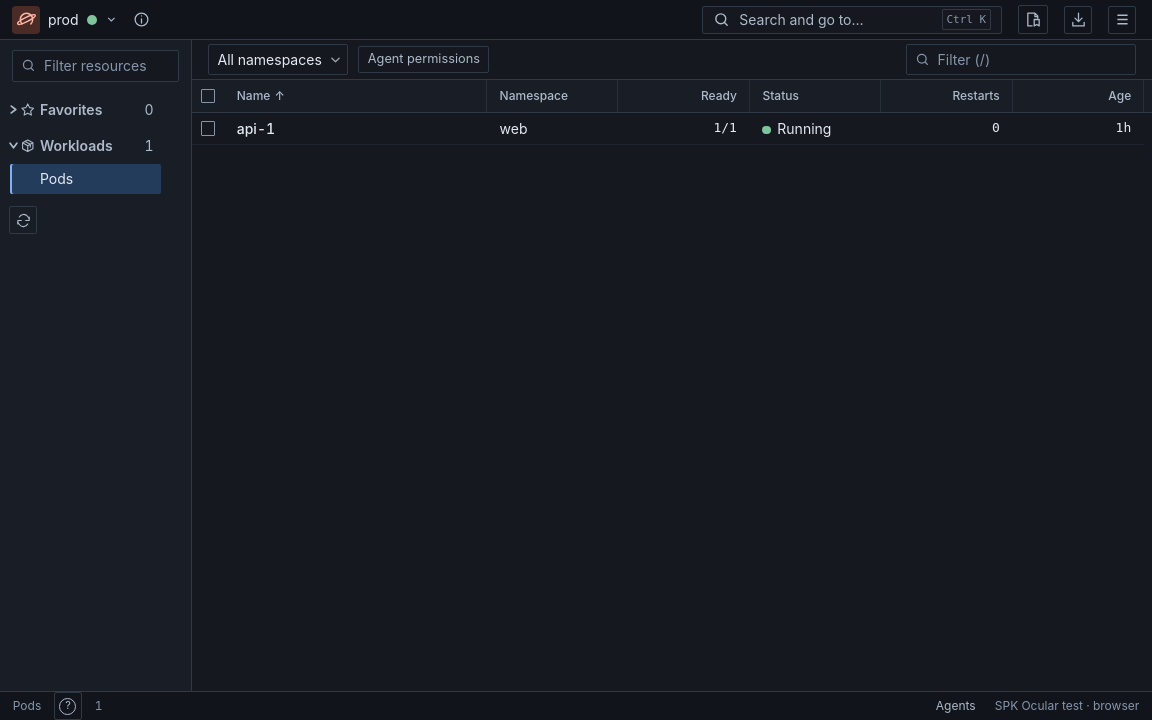
Test: Workspace details and state › opens a row in the drawer, follows a relation and goes back
Click the text "api-1". click: (256, 128)
box: [237,120,275,137]
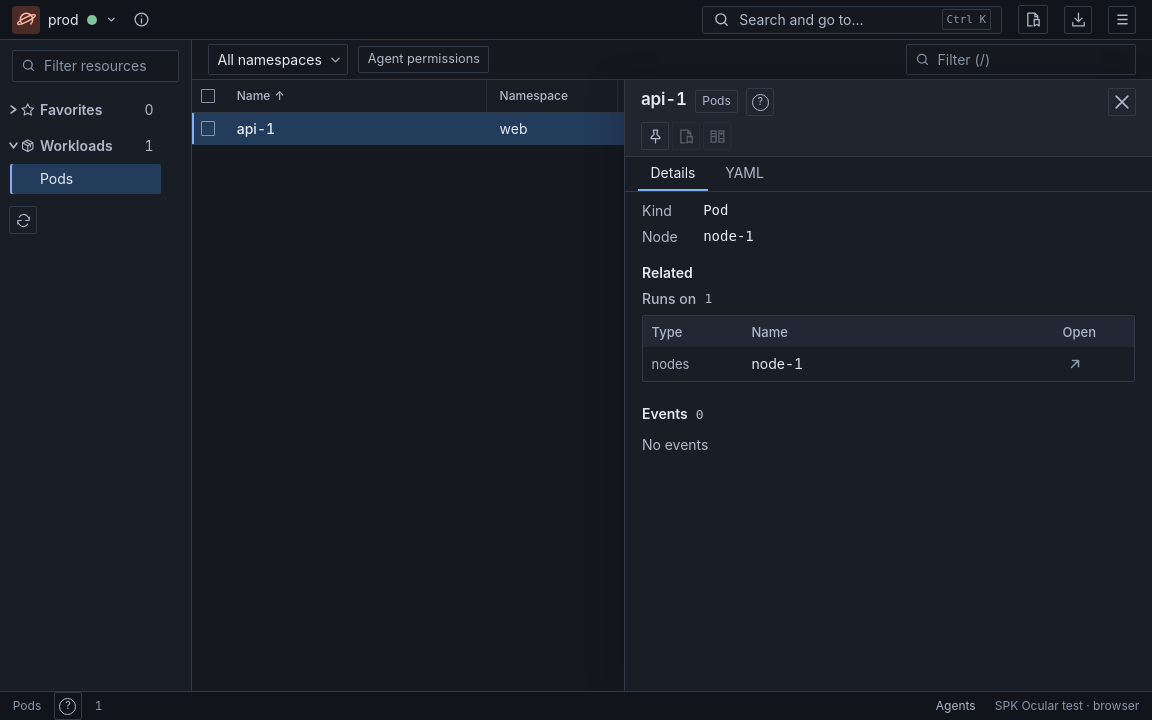
Expected: the text "node-1" below "Kind" is shown, [703,228,754,244]
Click the button named "nodes/node-1". click: (1075, 364)
box: [1062,352,1088,377]
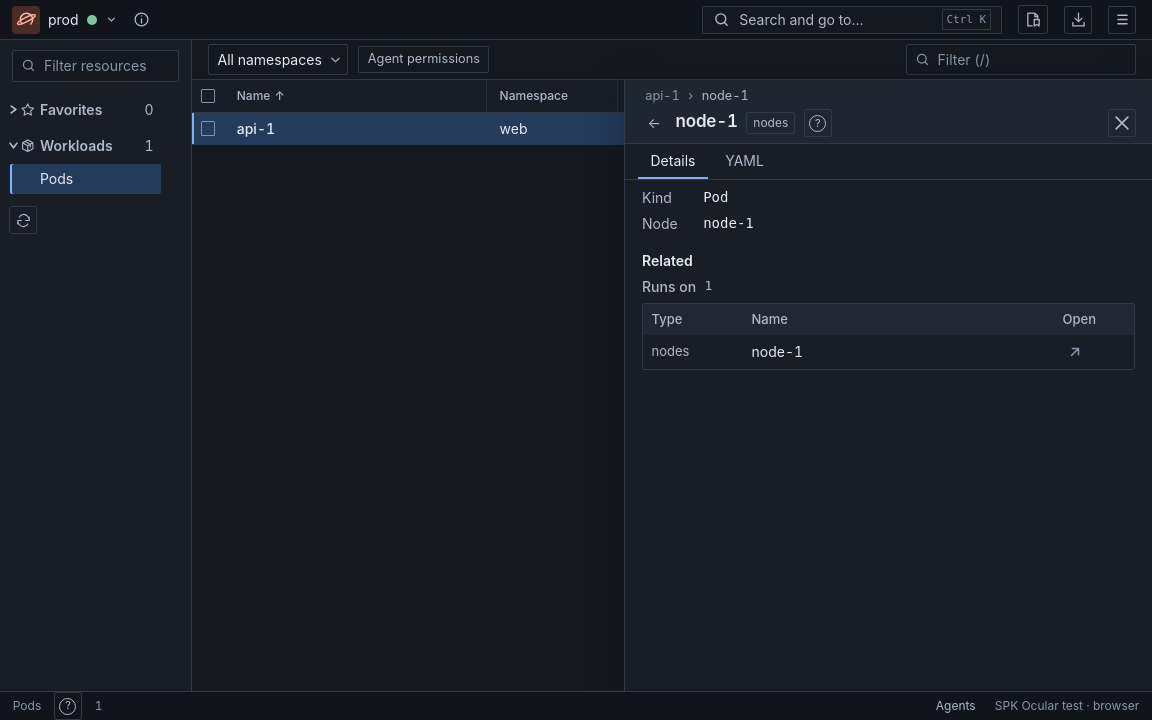
Expected: the dialog named "nodes node-1" is shown, [624,80,1151,691]
Click the button named "Back". click: (654, 123)
box: [641,113,667,133]
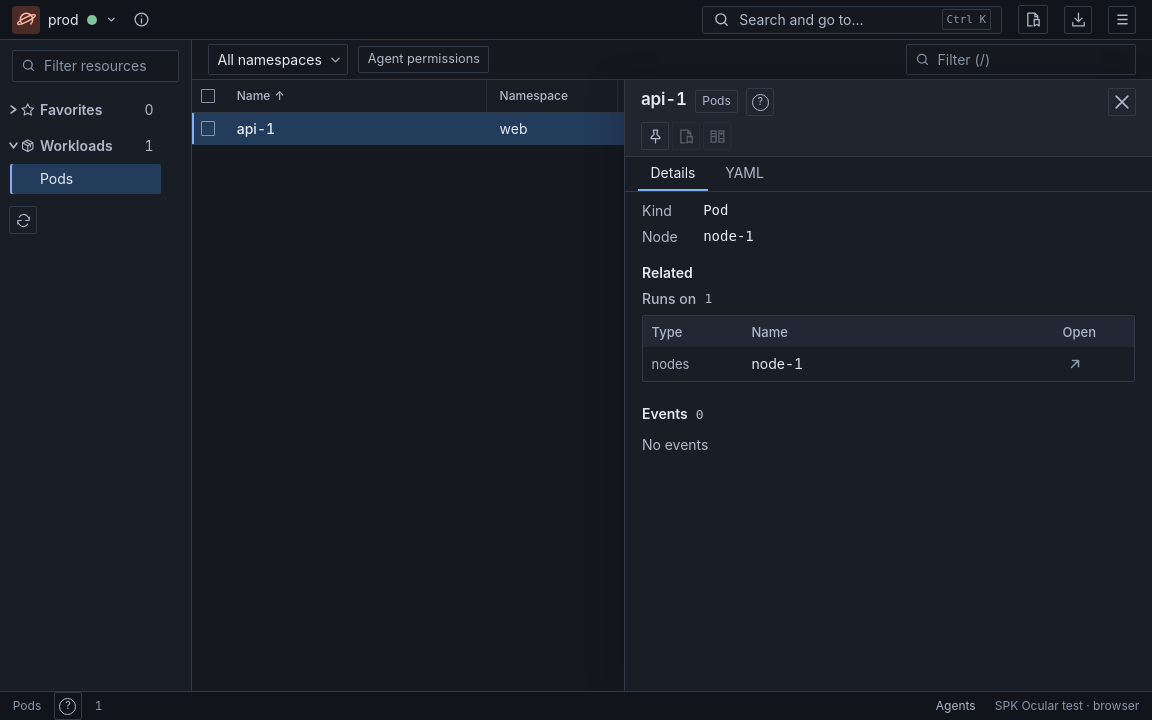
Expected: the dialog named "pods api-1" is shown, [624,80,1151,691]
Press Escape
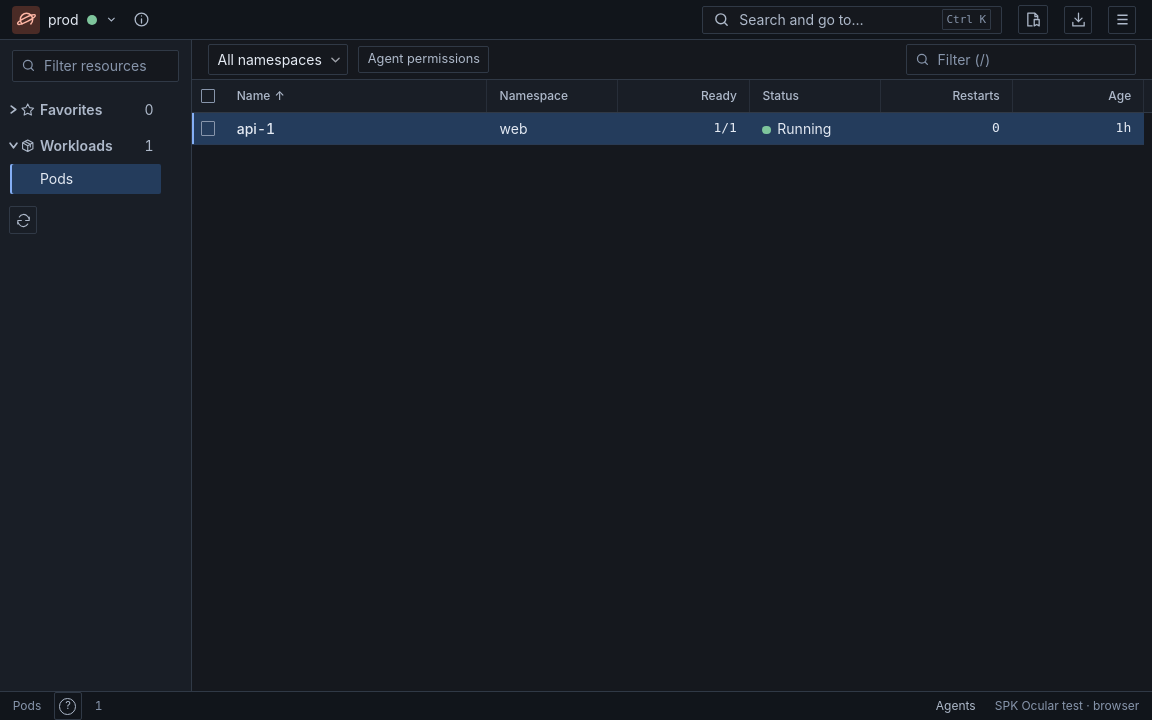
Expected: the dialog is gone
